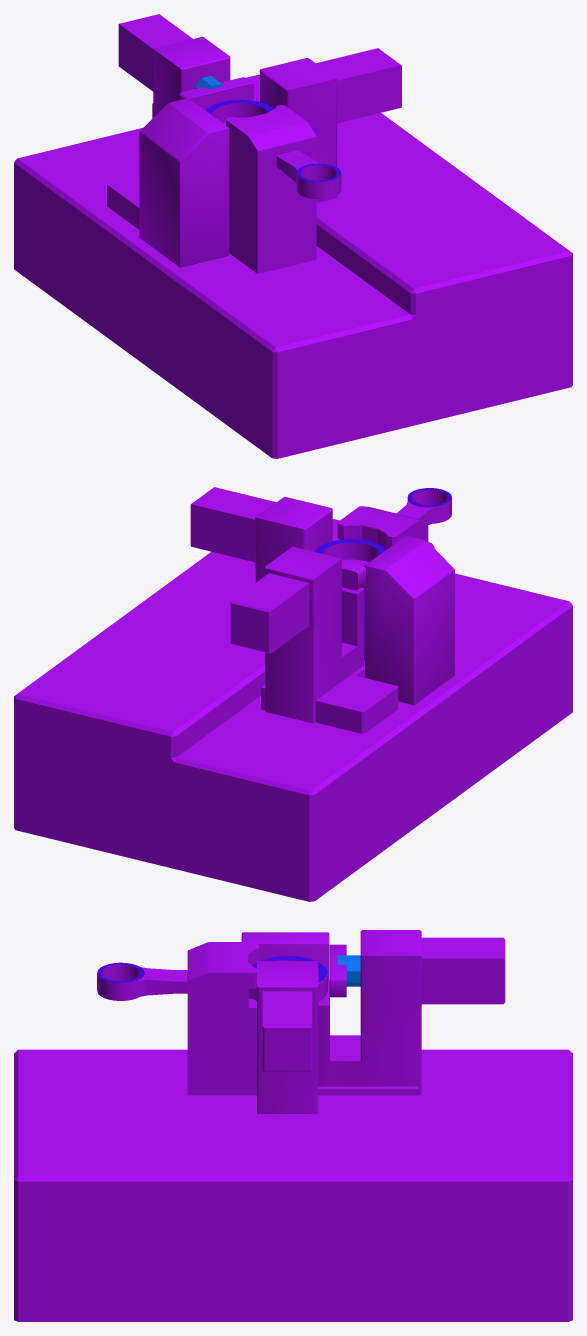
Rendered from U600_PlatA.FBX.
3 views of the same model, one above another, from view 1: azimuth 30°, elevation 25°; view 2: azimuth 150°, elevation 25°; view 3: azimuth 270°, elevation 25° (orthographic). The views are drawn at different scales.
Parts seen in each view (by area): view 1: PlatA, ProcessObject; view 2: PlatA, ProcessObject; view 3: PlatA, ProcessObject.
Boxes of the visible parts, box(x1,y1,x2,y2) form: PlatA: box(14, 14, 572, 458); ProcessObject: box(206, 99, 341, 199); PlatA: box(14, 487, 572, 901); ProcessObject: box(315, 488, 451, 586); PlatA: box(14, 930, 572, 1321); ProcessObject: box(97, 956, 327, 1001).
Bounding box in the file's own units: 257 × 208 × 388.
